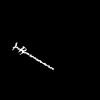treble_crochet: (13, 43, 52, 68)
